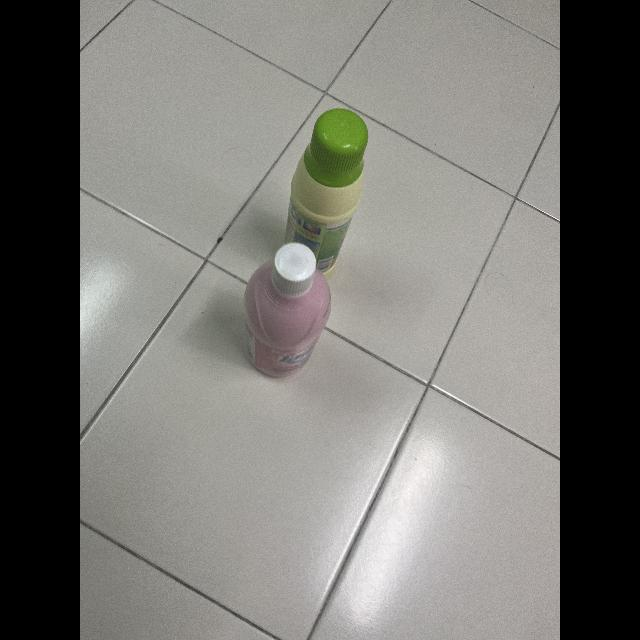chemical_plastic_bottle: (282, 100, 372, 274), (244, 244, 336, 382)
